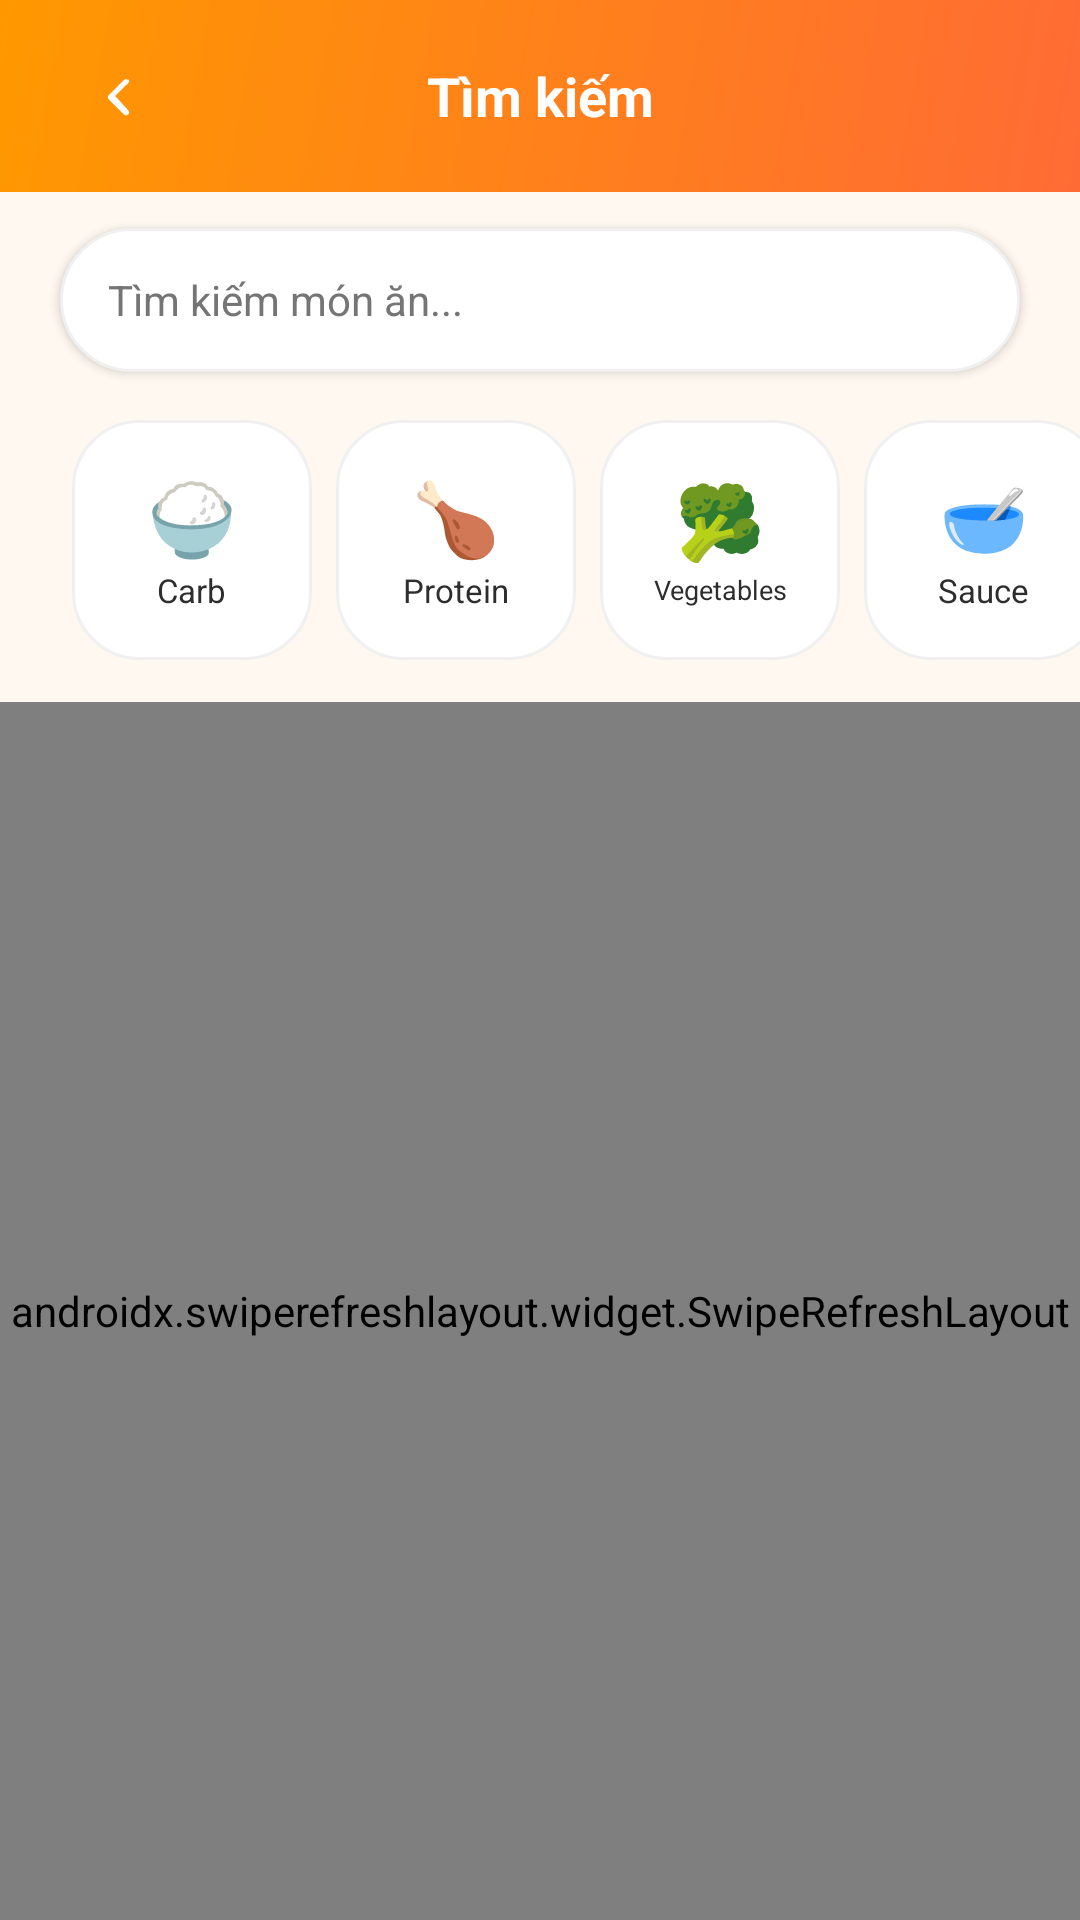

Locate icon controls on the screen. Image size 1080x1920, boxes as (x1, y1, x2, y2).
chevron left: (107, 79, 130, 116)
